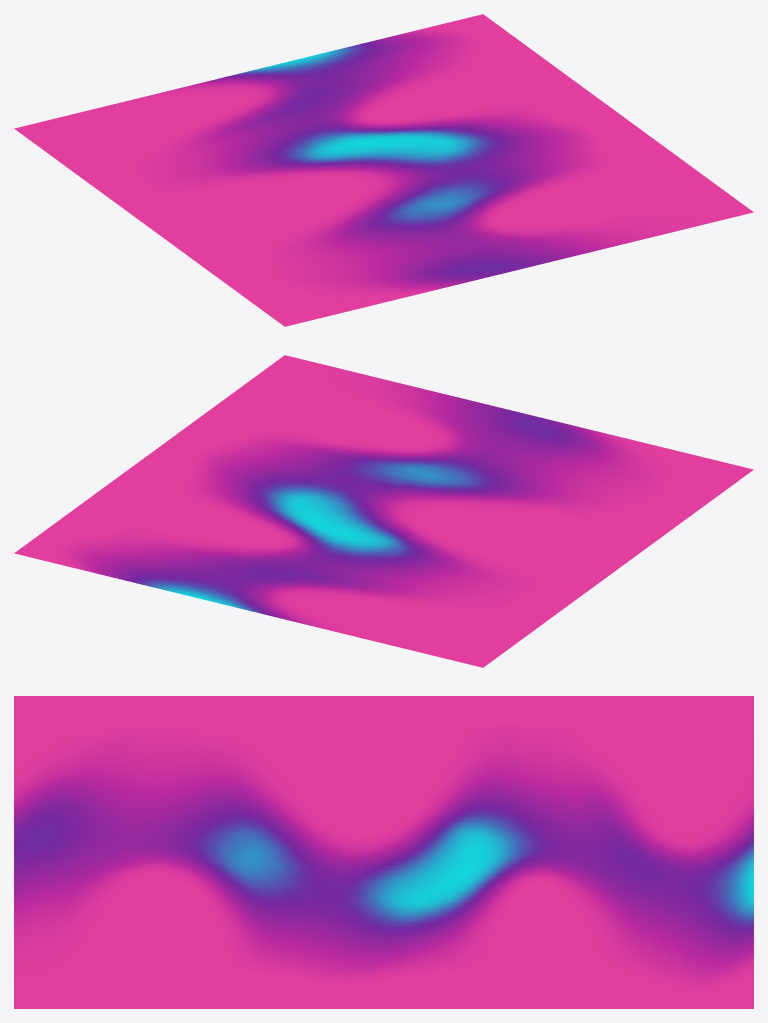
The model's file is WPN_Hyper.fbx.
The picture shows the model from 3 angles, top to bottom: view 1: azimuth 30°, elevation 25°; view 2: azimuth 150°, elevation 25°; view 3: azimuth 270°, elevation 25°; orthographic projection. The views are drawn at different scales.
Parts seen in each view (by area): view 1: Laser_Hyper_Beam; view 2: Laser_Hyper_Beam; view 3: Laser_Hyper_Beam.
Part boxes in pixels (x1,y1,x2,y2): Laser_Hyper_Beam: [14, 14, 753, 326]; Laser_Hyper_Beam: [14, 355, 753, 667]; Laser_Hyper_Beam: [14, 696, 753, 1008].
Bounding box in the file's own units: 100 × 2.22e-14 × 100.
Materials: 1 (1 with a texture image).
